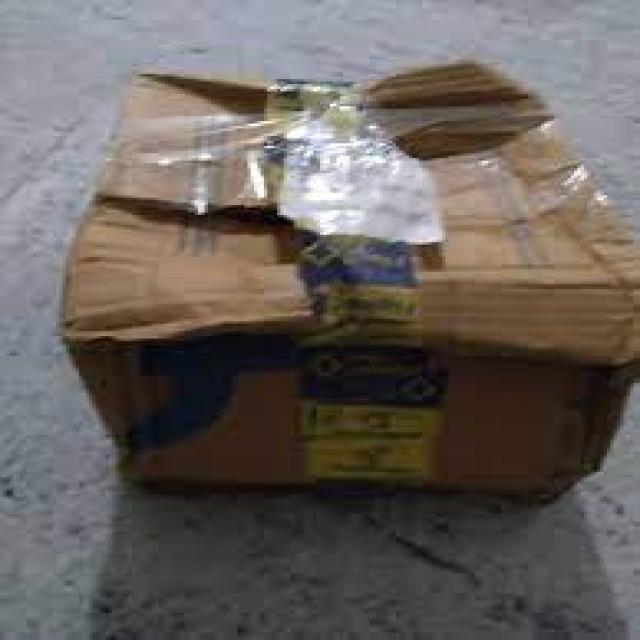Kardus kondisi rusak: (60, 59, 640, 511)
